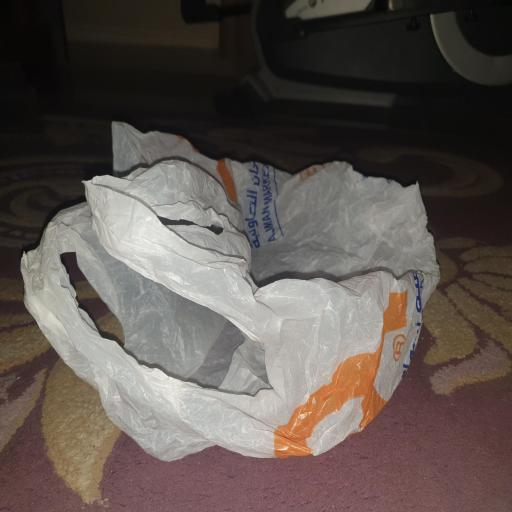plastic bag: (9, 102, 452, 472)
